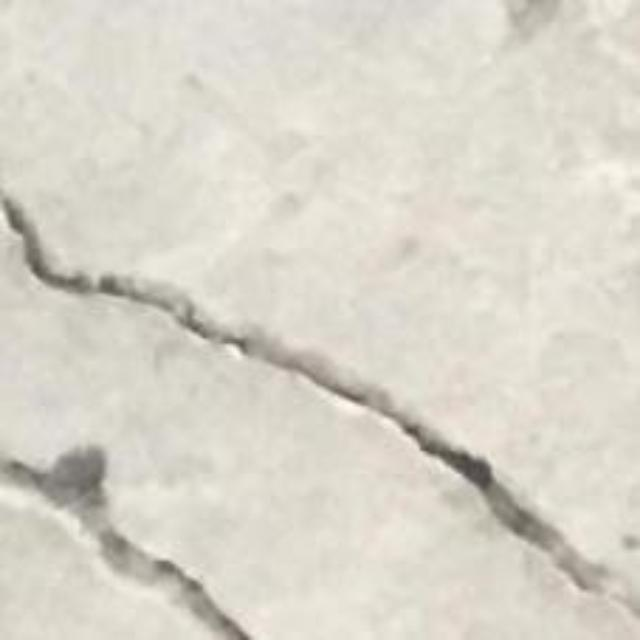crack: (0, 189, 639, 620)
